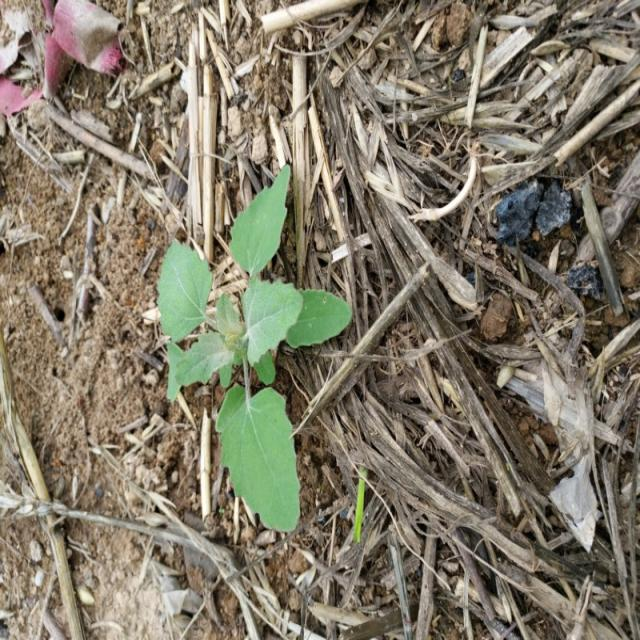ca: (160, 236, 302, 532)
